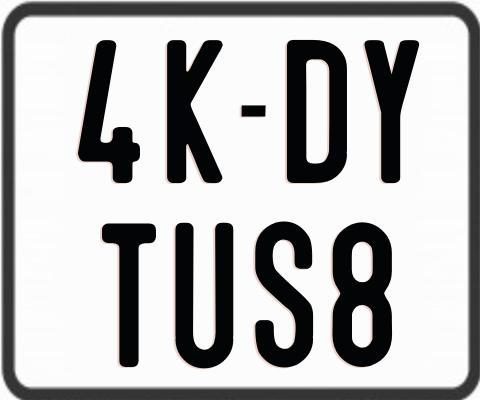4: (77, 37, 140, 181)
8: (329, 219, 395, 364)
D: (284, 38, 348, 184)
K: (165, 37, 226, 185)
S: (252, 221, 311, 370)
T: (101, 222, 155, 368)
U: (173, 222, 236, 368)
Y: (363, 40, 421, 187)
